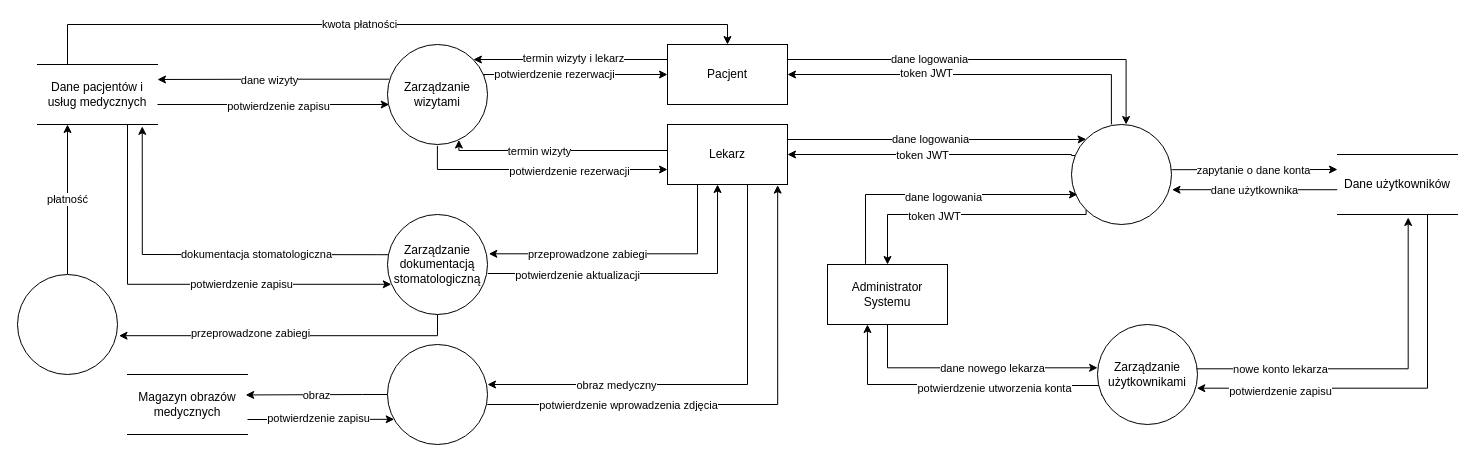
Image size: 1475x462. Some labels were removed from this diagram. The centre of each missing label's shape, as x and y in pixels:
"Autentykacja i autoryzacja" goes at point 1121,174.
"Zarządzanie obrazmi medycznymi" goes at point 437,394.
"Zarządzanie płatnościami" goes at point 67,324.
